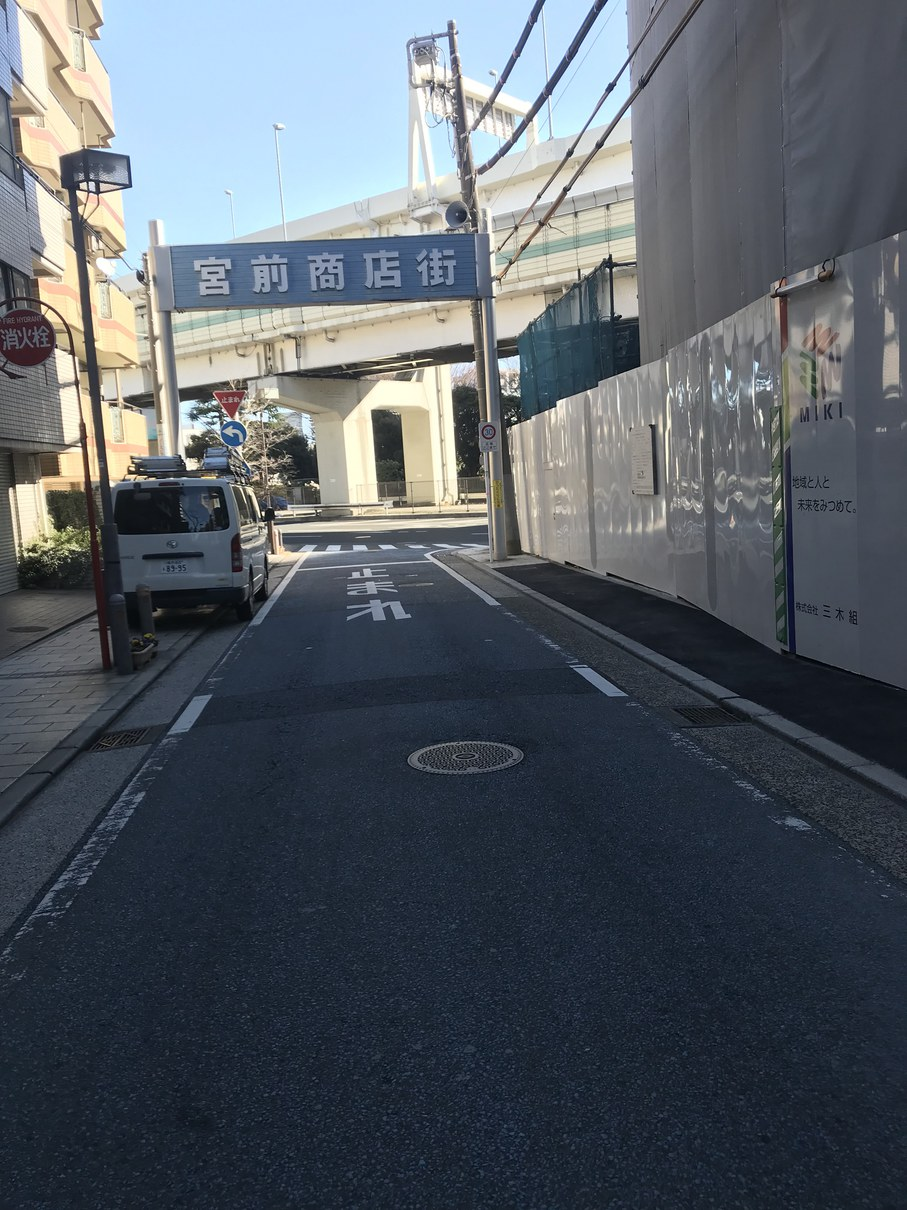stop_sign: (212, 389, 247, 420)
